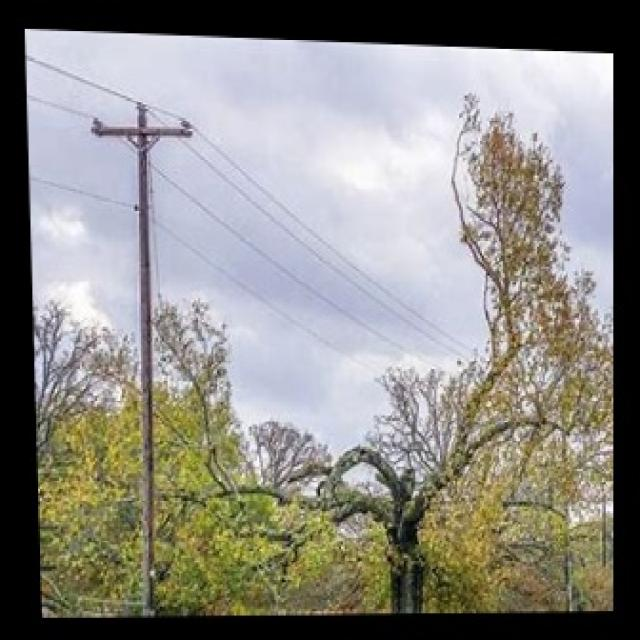utility poles: (84, 89, 214, 614)
